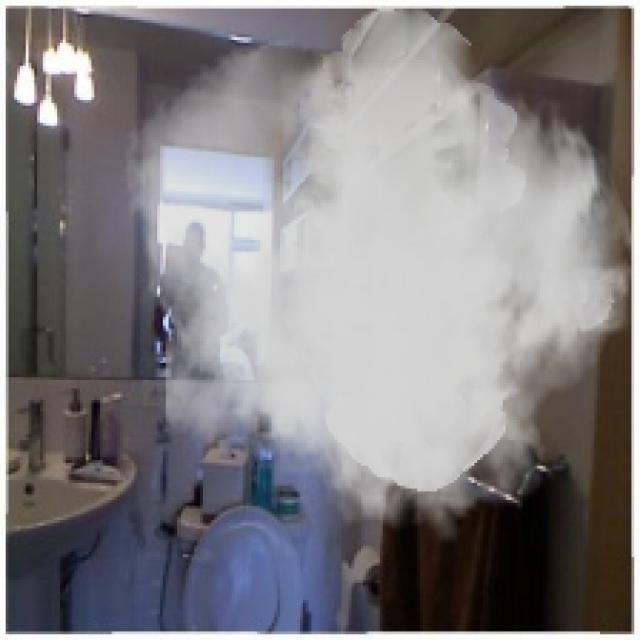Smoke: (120, 6, 637, 548)
